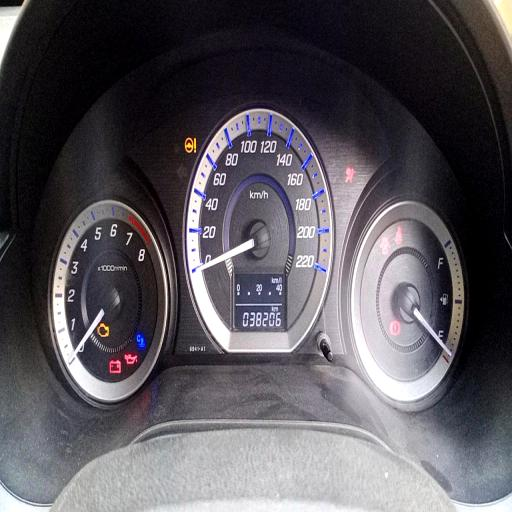belt: (394, 225, 403, 246)
brake_system_fault: (390, 320, 401, 336)
check_engine: (97, 323, 108, 337)
oil: (124, 353, 138, 364)
tachometer: (53, 200, 168, 401)
vehicle_charging: (109, 358, 121, 374)
